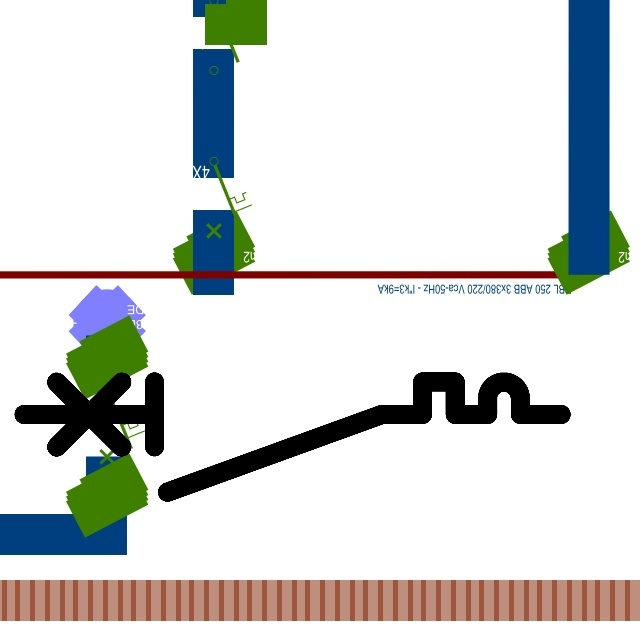interruptor_termomagnetico: (10, 368, 575, 506)
